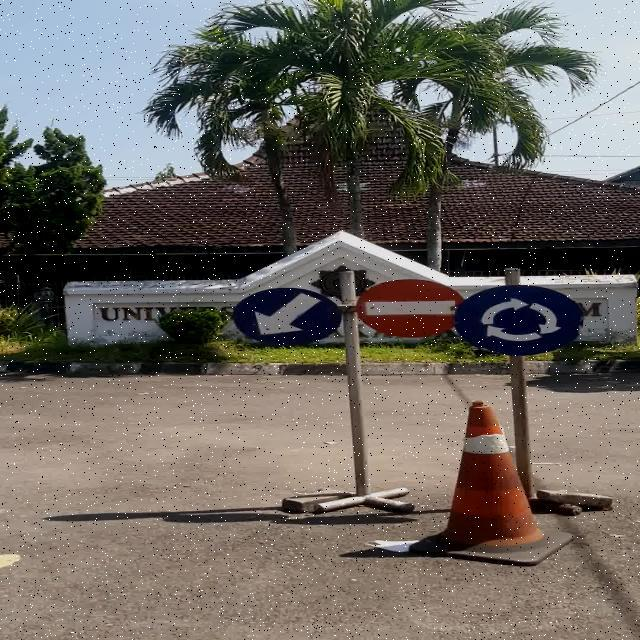Ikuti Bundaran: (454, 284, 582, 356)
Lajur Kiri: (232, 286, 342, 346)
